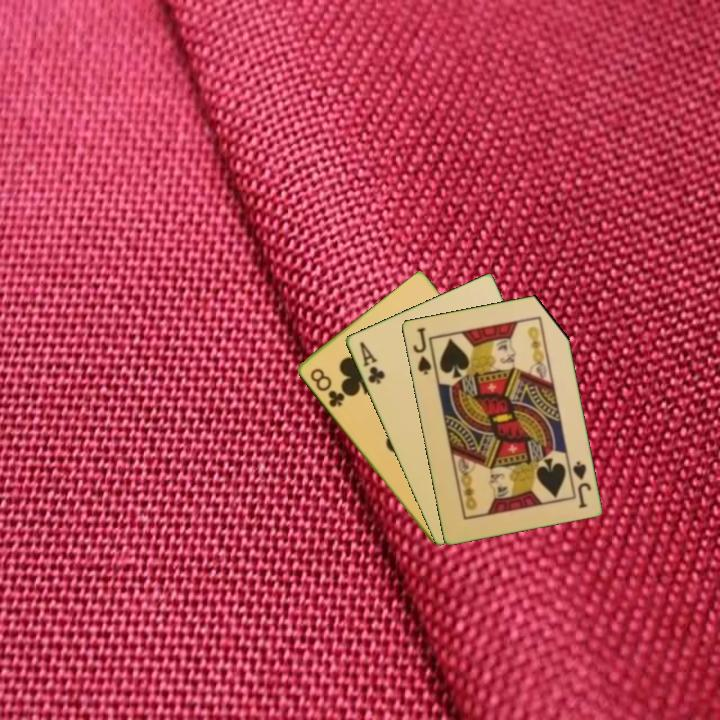8c: (306, 364, 347, 410)
Ac: (356, 337, 388, 387)
Js: (409, 324, 434, 378), (569, 457, 593, 511)
